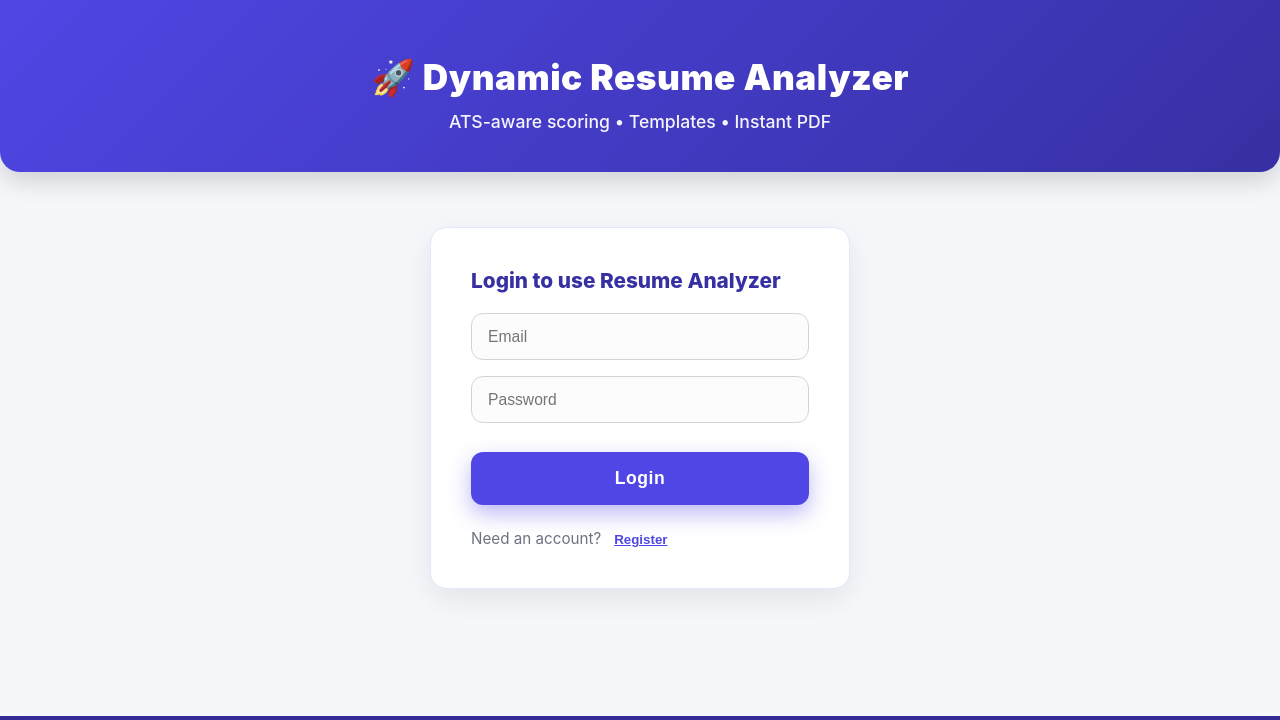
Test: E2E: Authentication Flow › E2E_AUTH_001: Registration Tests › Should display registration form with all required fields
expect the header with class "hero" is shown: met, box [0,0,1279,172]
expect the heading with class "title-small" shows "Dynamic Resume Analyzer": met, box [371,56,909,98]
Step 1. Click the button "Register" → [641, 540], box [614,532,667,547]
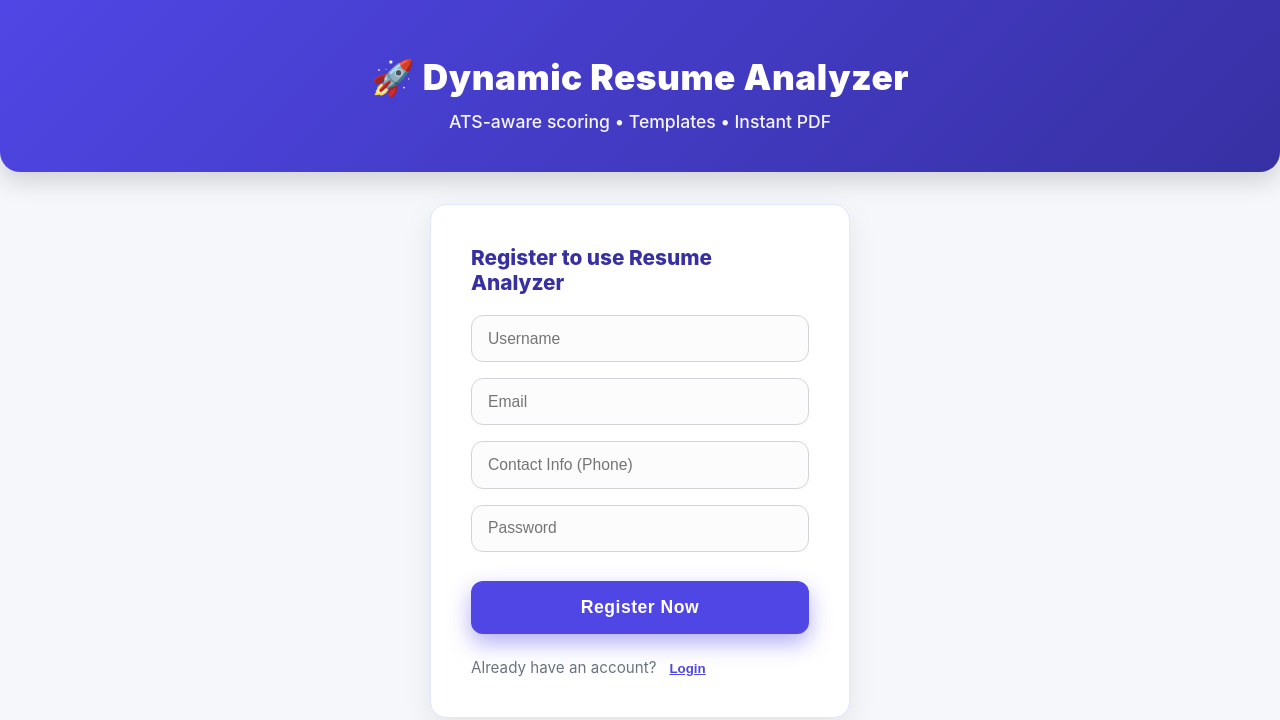
expect the heading "Register to use Resume Analyzer" is shown: met, box [471,245,712,295]
expect the field with placeholder "Username" is shown: met, box [471,315,809,362]
expect the field with placeholder "Contact Info (Phone)" is shown: met, box [471,441,809,489]
